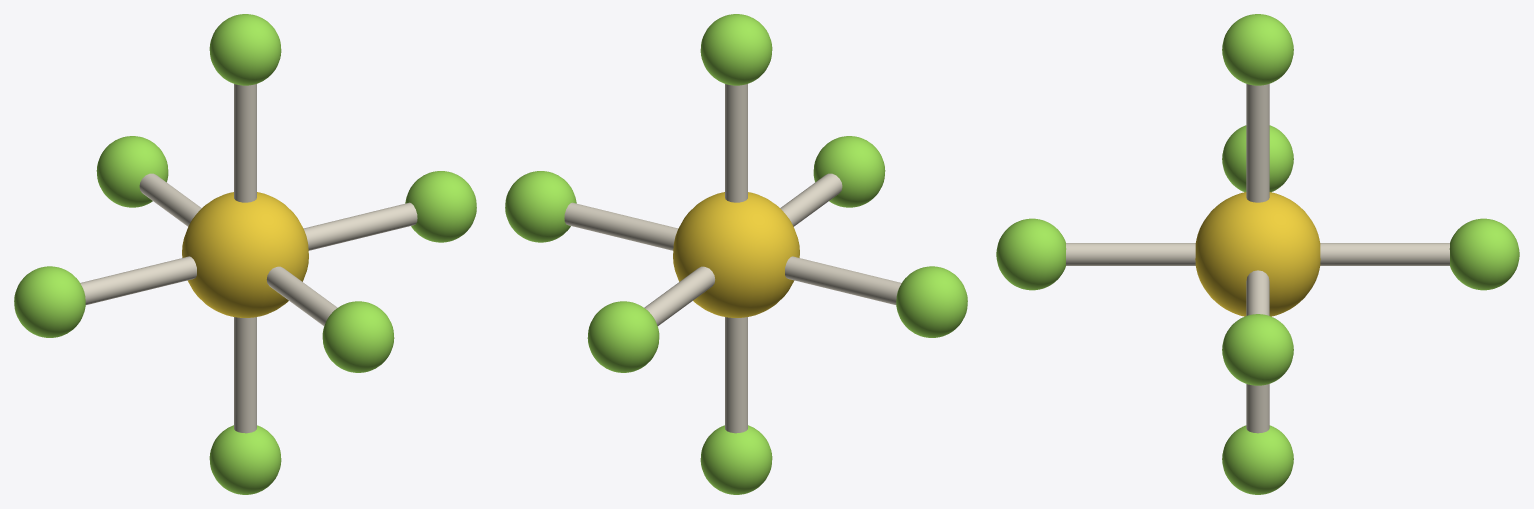
3 renders of one model, left to right at view 1: azimuth 30°, elevation 25°; view 2: azimuth 150°, elevation 25°; view 3: azimuth 270°, elevation 25°, orthographic.
Parts seen in each view (by area): view 1: S_0, F_5, F_3, F_2, F_4, F_1, F_6, bond_1, bond_2, bond_0, bond_3, bond_4 (+1 smaller); view 2: S_0, F_6, F_3, F_2, F_4, F_1, F_5, bond_1, bond_2, bond_0, bond_3, bond_5 (+1 smaller); view 3: S_0, F_1, F_3, F_5, F_6, F_4, bond_4, bond_5, bond_2, F_2, bond_3, bond_0.
Boxes of the visible parts, x1,y1,x2,y2 form: S_0: (182, 192, 308, 317); F_5: (322, 301, 394, 372); F_3: (209, 14, 281, 85); F_2: (14, 266, 85, 337); F_4: (209, 425, 281, 494); F_1: (405, 171, 476, 242); F_6: (96, 136, 168, 207); bond_1: (80, 256, 196, 304); bond_2: (234, 84, 256, 202); bond_0: (303, 202, 417, 250); bond_3: (234, 317, 256, 433); bond_4: (266, 266, 337, 325); S_0: (673, 192, 799, 317); F_6: (587, 301, 659, 372); F_3: (700, 14, 772, 85); F_2: (896, 266, 967, 337); F_4: (700, 425, 772, 494); F_1: (505, 171, 576, 242); F_5: (813, 136, 885, 207); bond_1: (785, 256, 901, 304); bond_2: (725, 84, 747, 202); bond_0: (564, 202, 678, 250); bond_3: (725, 317, 747, 433); bond_5: (644, 266, 715, 325); S_0: (1195, 192, 1320, 316); F_1: (1222, 314, 1293, 385); F_3: (1222, 14, 1293, 85); F_5: (996, 218, 1066, 290); F_6: (1449, 218, 1519, 290); F_4: (1222, 425, 1293, 494); bond_4: (1066, 243, 1195, 265); bond_5: (1320, 243, 1449, 265); bond_2: (1246, 84, 1269, 202); F_2: (1222, 125, 1293, 192); bond_3: (1246, 384, 1269, 433); bond_0: (1246, 270, 1269, 315).
Bounding box in the file's own units: 0.904 × 0.904 × 0.904.
